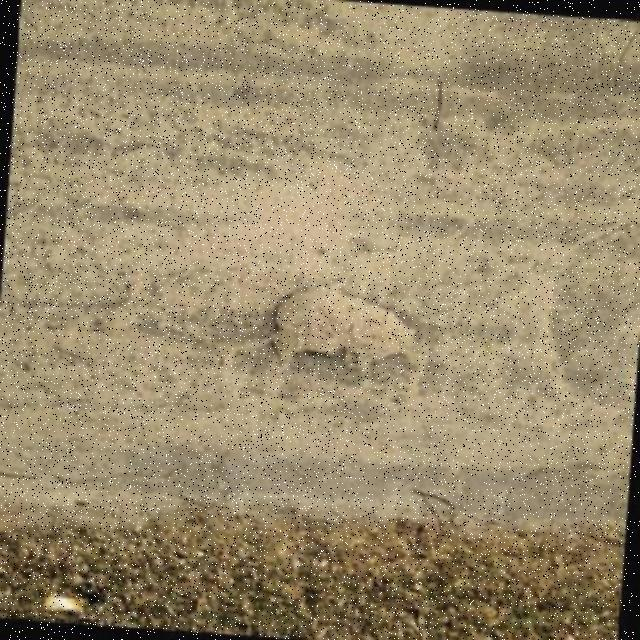Pothole: (269, 285, 415, 365)
